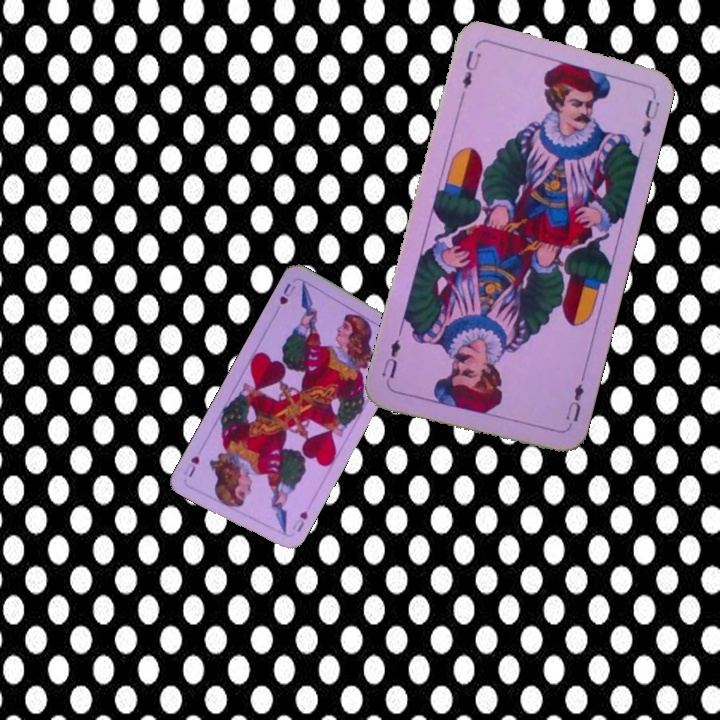EU: (456, 46, 484, 103), (561, 372, 587, 425)
HU: (285, 507, 310, 535), (275, 279, 298, 307)
